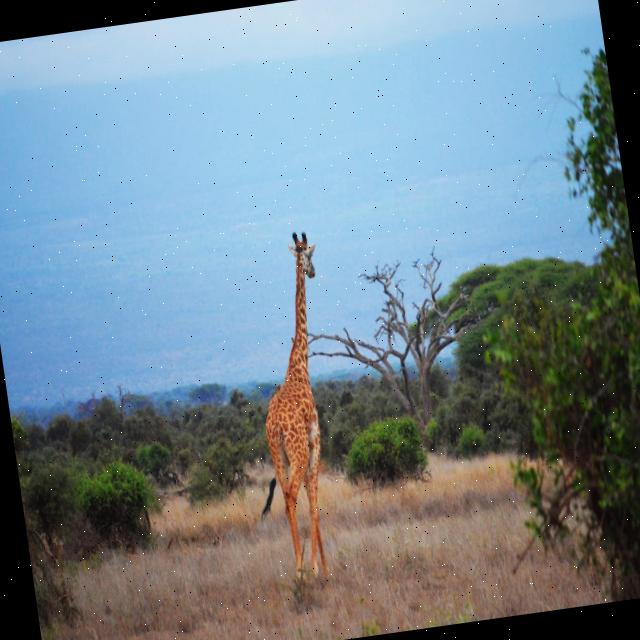Giraffe: (222, 228, 364, 592)
